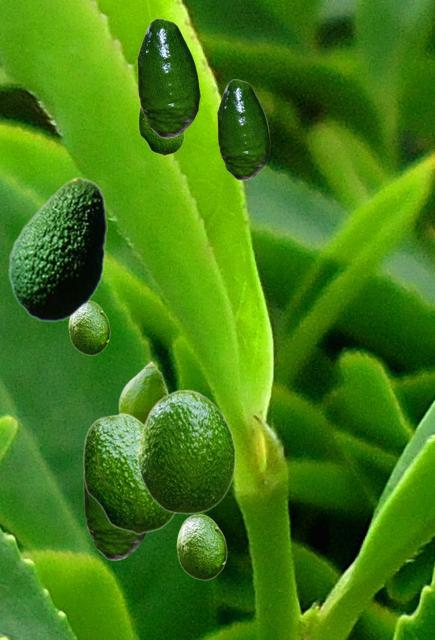avocado: (8, 177, 106, 321), (137, 389, 235, 513), (82, 412, 175, 533), (137, 18, 199, 137), (217, 79, 269, 179), (83, 483, 146, 559), (176, 514, 226, 579), (118, 360, 168, 422), (68, 300, 109, 354), (138, 108, 183, 154)
